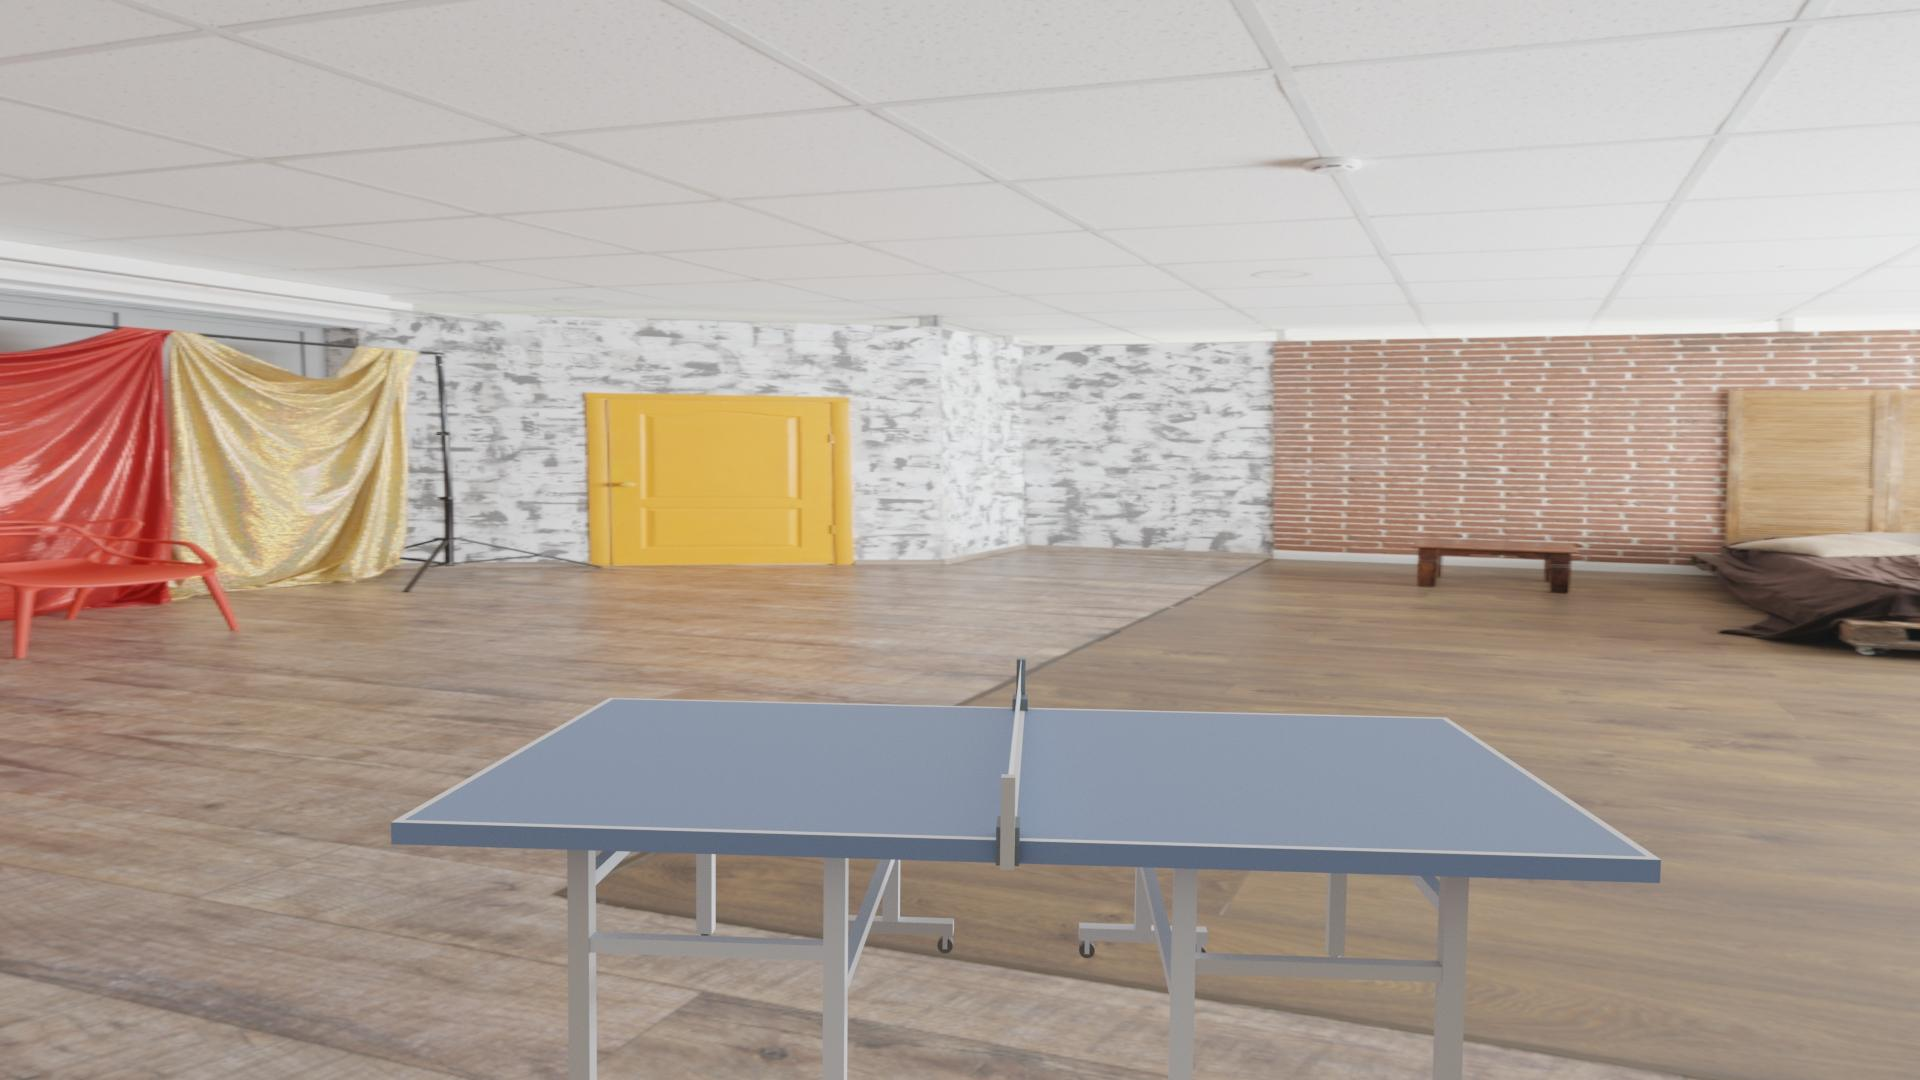table: (404, 699, 1647, 857)
